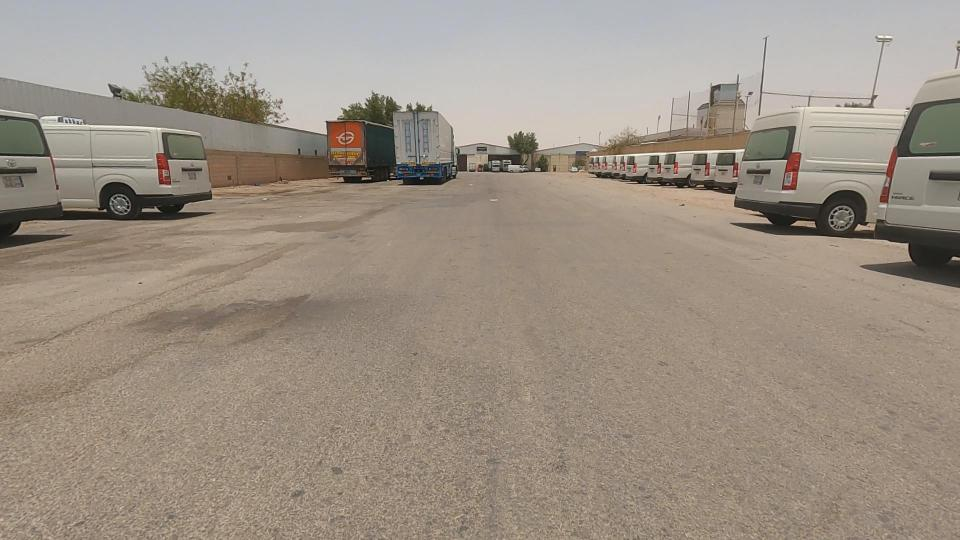GARBAGE: (225, 175, 308, 232), (454, 179, 529, 226)
